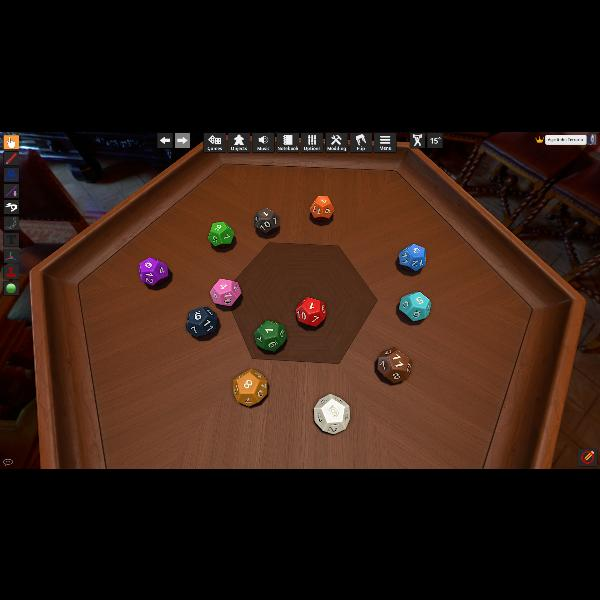d12: (312, 393, 349, 433), (232, 368, 268, 406), (254, 319, 288, 351), (384, 347, 414, 381), (399, 292, 429, 323), (294, 296, 324, 326), (210, 278, 240, 308), (186, 307, 216, 337), (139, 256, 169, 286), (208, 220, 234, 248), (399, 243, 425, 271), (253, 208, 279, 234), (310, 196, 334, 220)
